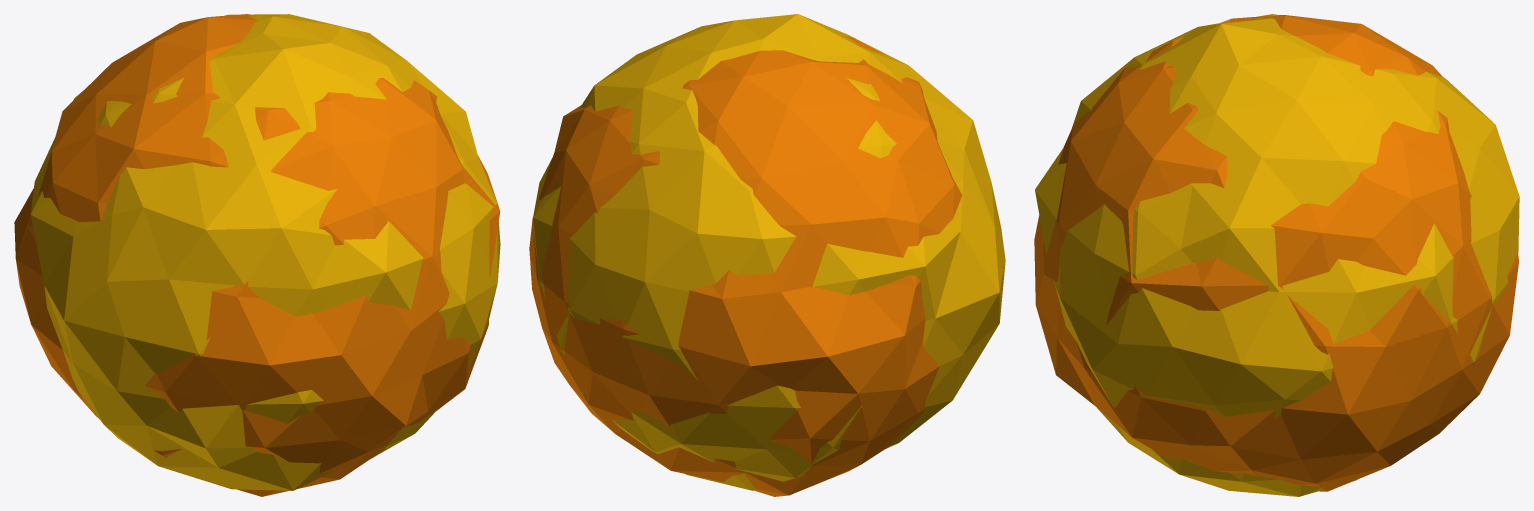
File: Sun.fbx
3 views of the same model, side by side, from view 1: azimuth 30°, elevation 25°; view 2: azimuth 150°, elevation 25°; view 3: azimuth 270°, elevation 25° (orthographic). The views are drawn at different scales.
Parts seen in each view (by area): view 1: Clockwise, AntiClockwise; view 2: AntiClockwise, Clockwise; view 3: Clockwise, AntiClockwise.
Part boxes in pixels (x1,y1,x2,y2): Clockwise: [30, 14, 500, 490]; AntiClockwise: [14, 14, 500, 496]; AntiClockwise: [529, 36, 1001, 496]; Clockwise: [533, 14, 1005, 490]; Clockwise: [1035, 14, 1519, 496]; AntiClockwise: [1034, 15, 1518, 491].
Size of the model in its own units: 210 by 206 by 201.
